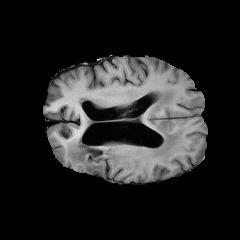glioma: (66, 89, 188, 169)
